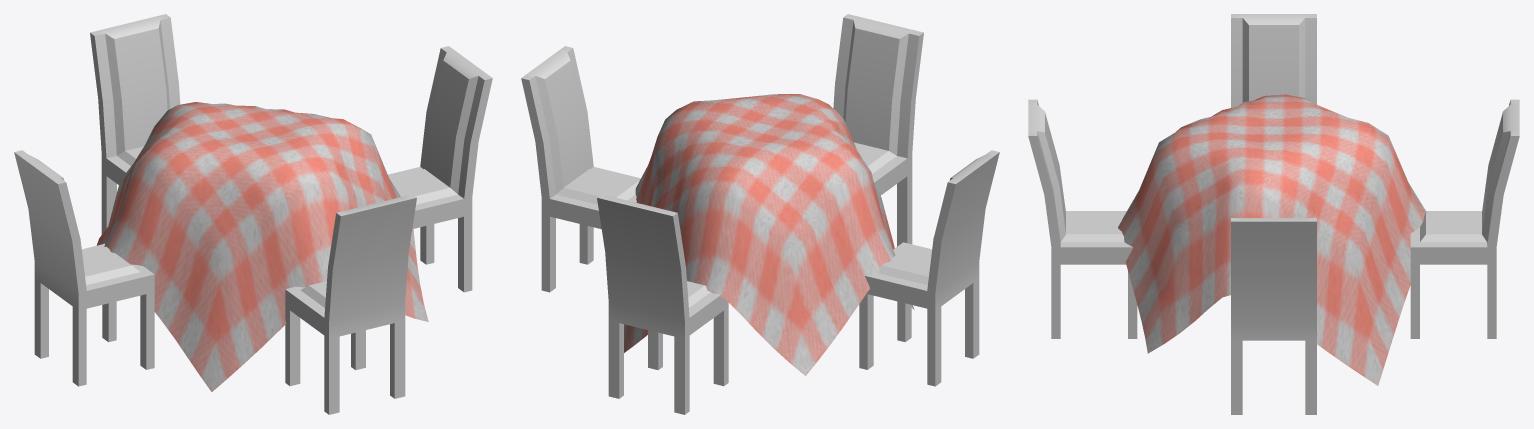
File: RestaurantTable.fbx
The picture shows the model from 3 angles, left to right: view 1: azimuth 30°, elevation 25°; view 2: azimuth 150°, elevation 25°; view 3: azimuth 270°, elevation 25°; orthographic projection. The views are drawn at different scales.
Parts seen in each view (by area): view 1: Tablecloth, Chair_front, Chair_left, Chair_right, Chair_back; view 2: Tablecloth, Chair_back, Chair_left, Chair_front, Chair_right; view 3: Tablecloth, Chair_right, Chair_back, Chair_front, Chair_left.
Part boxes in pixels (x1=…): Tablecloth: x1=96, y1=102, x2=428, y2=391; Chair_front: x1=285, y1=194, x2=416, y2=414; Chair_left: x1=14, y1=150, x2=154, y2=386; Chair_right: x1=388, y1=46, x2=492, y2=292; Chair_back: x1=90, y1=14, x2=180, y2=234; Tablecloth: x1=624, y1=94, x2=914, y2=375; Chair_back: x1=597, y1=194, x2=728, y2=414; Chair_left: x1=859, y1=150, x2=999, y2=386; Chair_front: x1=833, y1=14, x2=923, y2=246; Chair_right: x1=521, y1=46, x2=640, y2=292; Tablecloth: x1=1118, y1=94, x2=1426, y2=385; Chair_right: x1=1231, y1=218, x2=1316, y2=414; Chair_back: x1=1410, y1=99, x2=1519, y2=338; Chair_front: x1=1028, y1=99, x2=1137, y2=338; Chair_left: x1=1231, y1=14, x2=1316, y2=107.
Size of the model in its own units: 2.57 by 1.29 by 2.57.
